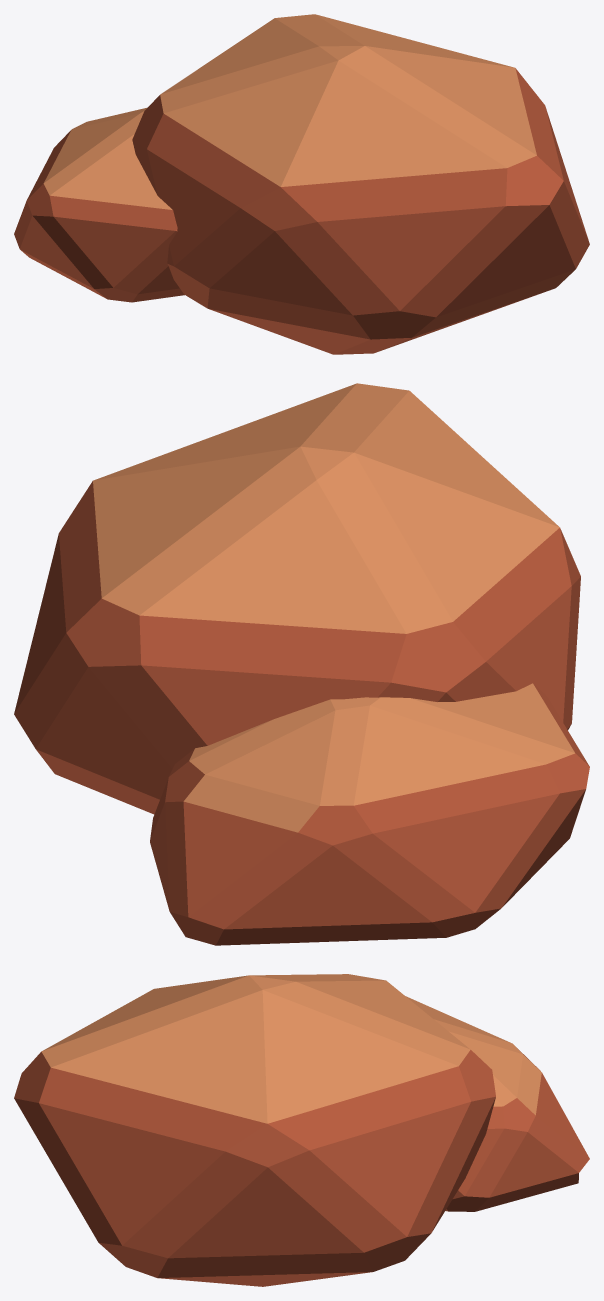
File: Boulder_B.fbx
The picture shows the model from 3 angles, top to bottom: view 1: azimuth 30°, elevation 25°; view 2: azimuth 150°, elevation 25°; view 3: azimuth 270°, elevation 25°; orthographic projection. The views are drawn at different scales.
Parts seen in each view (by area): view 1: Boulder_B; view 2: Boulder_B; view 3: Boulder_B.
Part boxes in pixels (x1,y1,x2,y2): Boulder_B: [14, 14, 589, 354]; Boulder_B: [14, 383, 589, 945]; Boulder_B: [14, 974, 589, 1286].
Bounding box in the file's own units: 0.9939 × 0.634 × 1.14.
